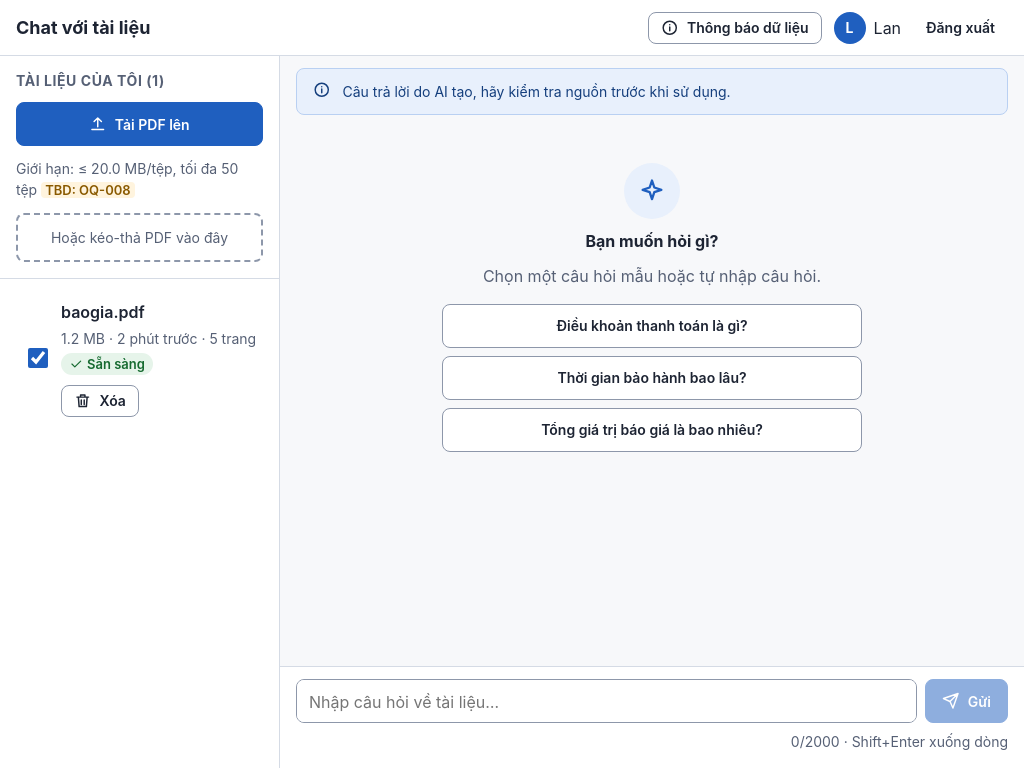
Scenario: Workspace — hỏi đáp và nguồn dẫn › chip tới tài liệu đã xóa bị gạch và panel báo không còn khả dụng
Type "q" into the text box named "Câu hỏi của bạn" at (607, 701), box [296,679,917,723]
Then press Enter
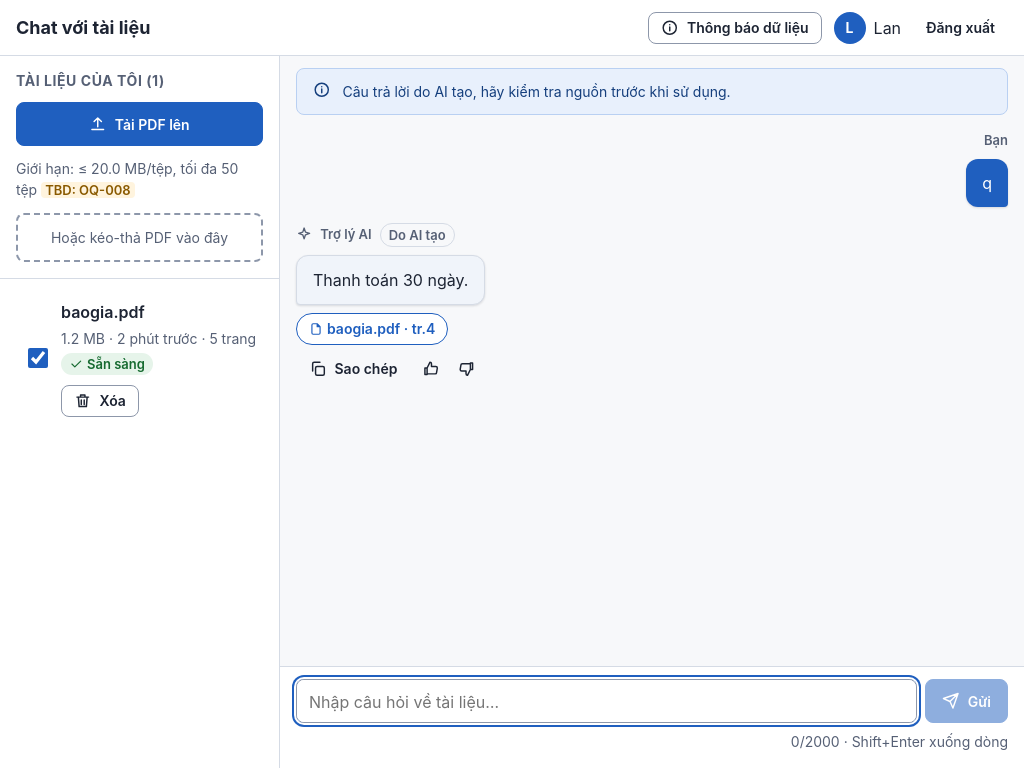
Click the button "baogia.pdf · tr.4" at (372, 329), box [296,313,448,345]
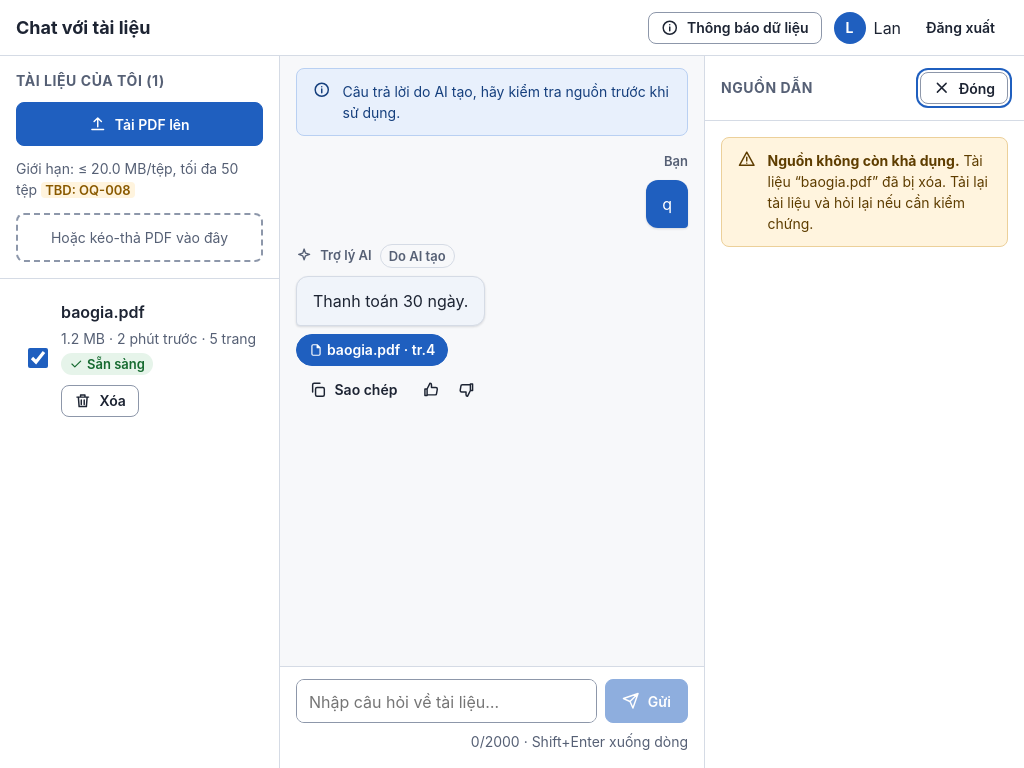
Expected: the text "Nguồn không còn khả dụng." is shown, [768,152,960,169]
